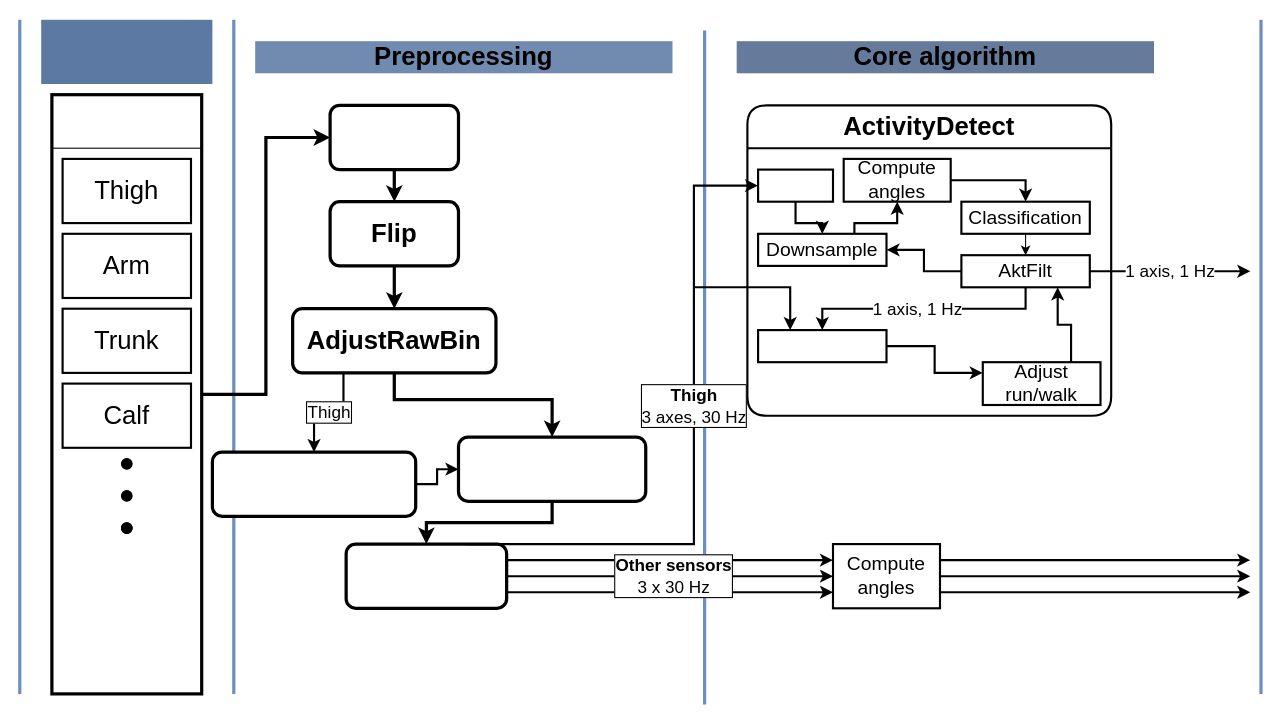
The diagram is 1282 pixels wide and 725 high, and some of its shapes have lost their labels. Here are the shapes that lost their labels. From the top down, the centre of each, then its label:
the point at 126,51: Data collection
the point at 126,121: Sensors
the point at 394,137: read_bin
the point at 795,185: Rotate
the point at 821,345: TrinAnalyse
the point at 313,483: ref = find_ref
the point at 551,468: AutoCalibrate
the point at 426,575: Synchronize (if more than one sensor)
